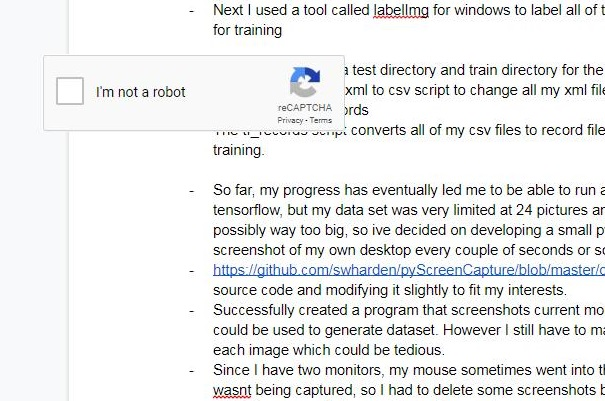captcha: (56, 77, 190, 105)
